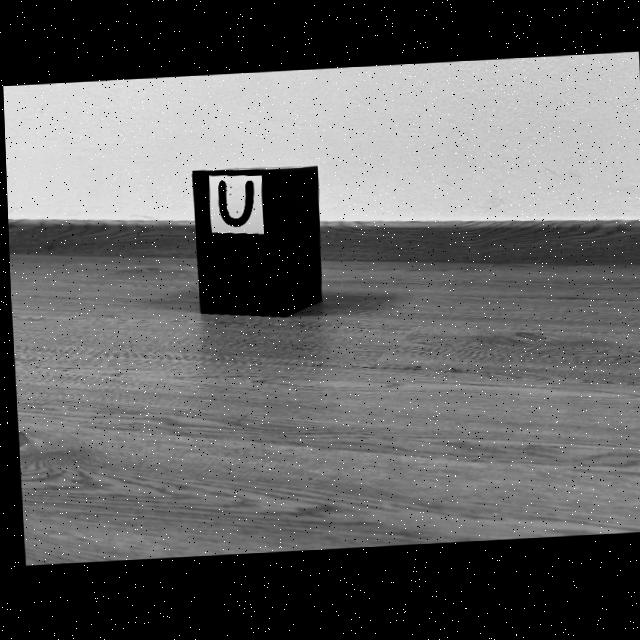U: (216, 182, 252, 227)
